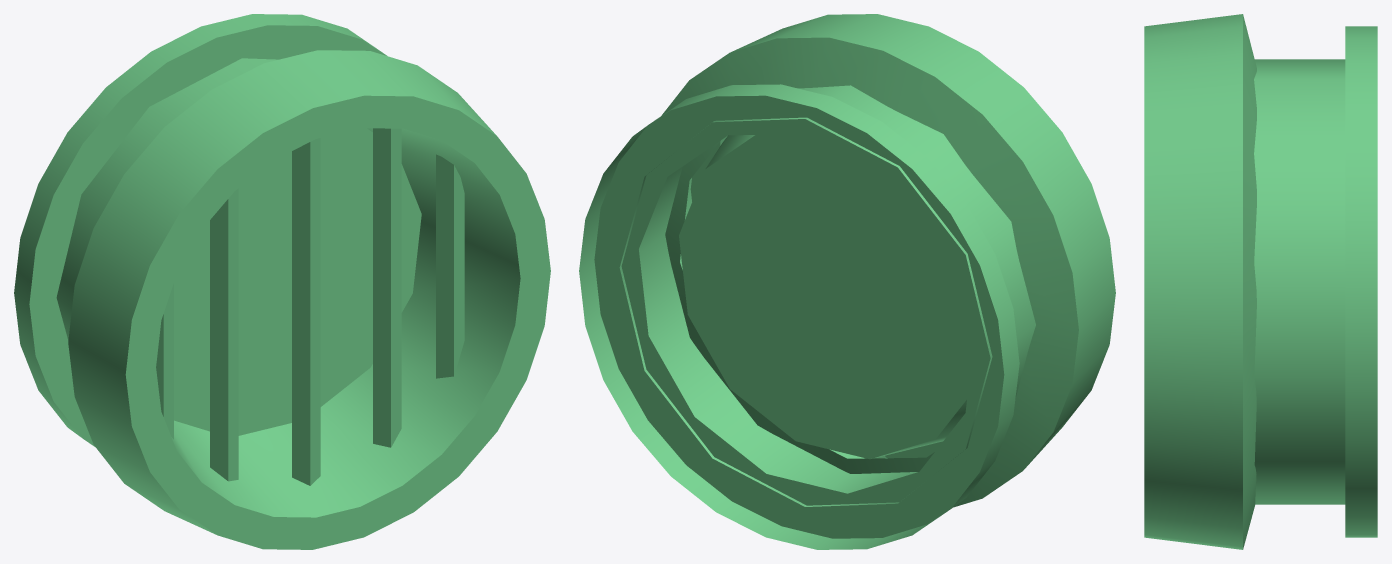
File: SewerGrate.fbx
The picture shows the model from 3 angles, left to right: view 1: azimuth 30°, elevation 25°; view 2: azimuth 150°, elevation 25°; view 3: azimuth 270°, elevation 25°; orthographic projection. The views are drawn at different scales.
Visible parts, largest first — view 1: SewerGrate; view 2: SewerGrate; view 3: SewerGrate.
Boxes of the visible parts, x1,y1,x2,y2 form: SewerGrate: [14, 14, 550, 549]; SewerGrate: [579, 14, 1115, 549]; SewerGrate: [1144, 14, 1377, 549].
Bounding box in the file's own units: 330 × 328 × 143.
